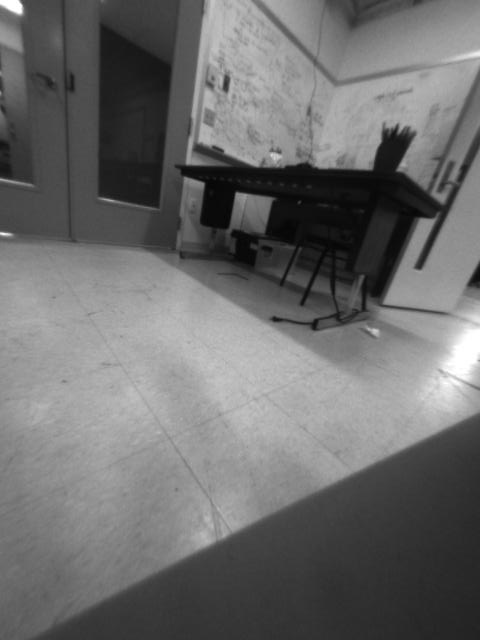door_handle: (26, 66, 60, 92)
